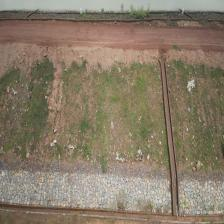rock_toe: (0, 170, 171, 214), (179, 180, 224, 215)
slope_drain: (158, 58, 179, 217)
